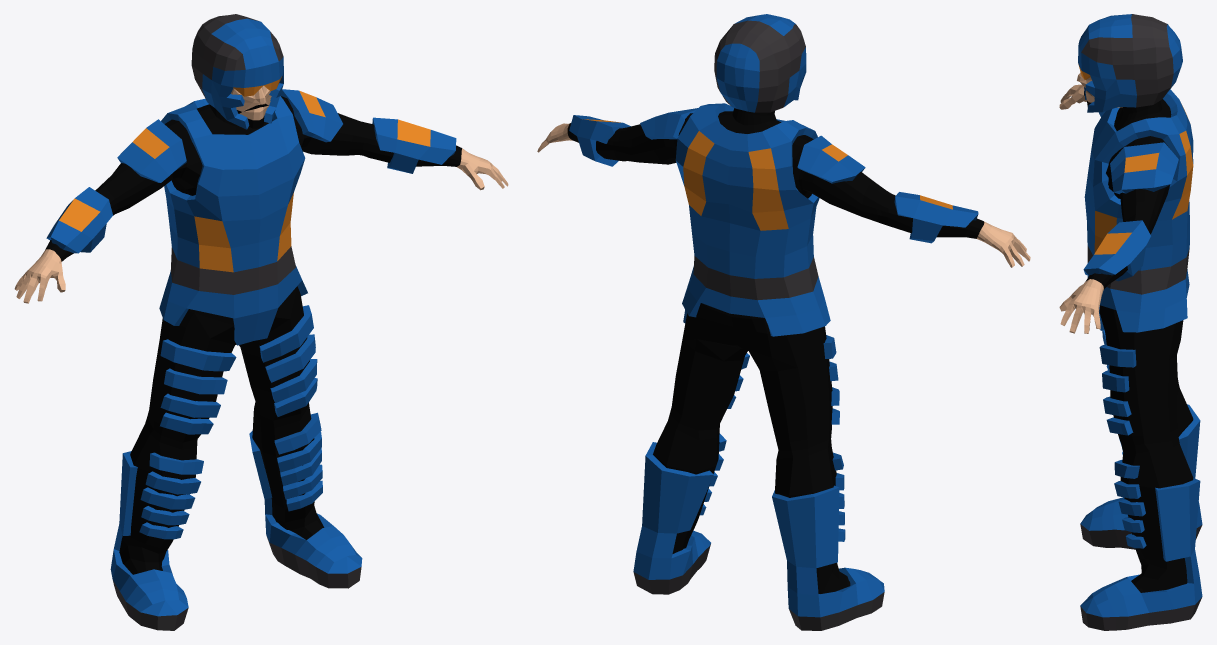
File: Personaje Azul.fbx
The picture shows the model from 3 angles, left to right: view 1: azimuth 30°, elevation 25°; view 2: azimuth 150°, elevation 25°; view 3: azimuth 270°, elevation 25°; orthographic projection.
Parts seen in each view (by area): view 1: Plane.004, Plane.003; view 2: Plane.004, Plane.003; view 3: Plane.004, Plane.003.
Part boxes in pixels (x1,y1,x2,y2): Plane.004: (46,14,456,630); Plane.003: (14,85,508,574); Plane.004: (569,14,978,630); Plane.003: (537,108,1030,593); Plane.004: (1078,14,1202,630); Plane.003: (1059,72,1193,592).
Bounding box in the file's own units: 1.61 × 1.82 × 0.4184.
